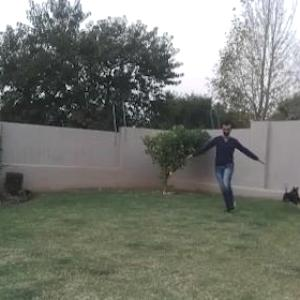land: (174, 115, 256, 212)
